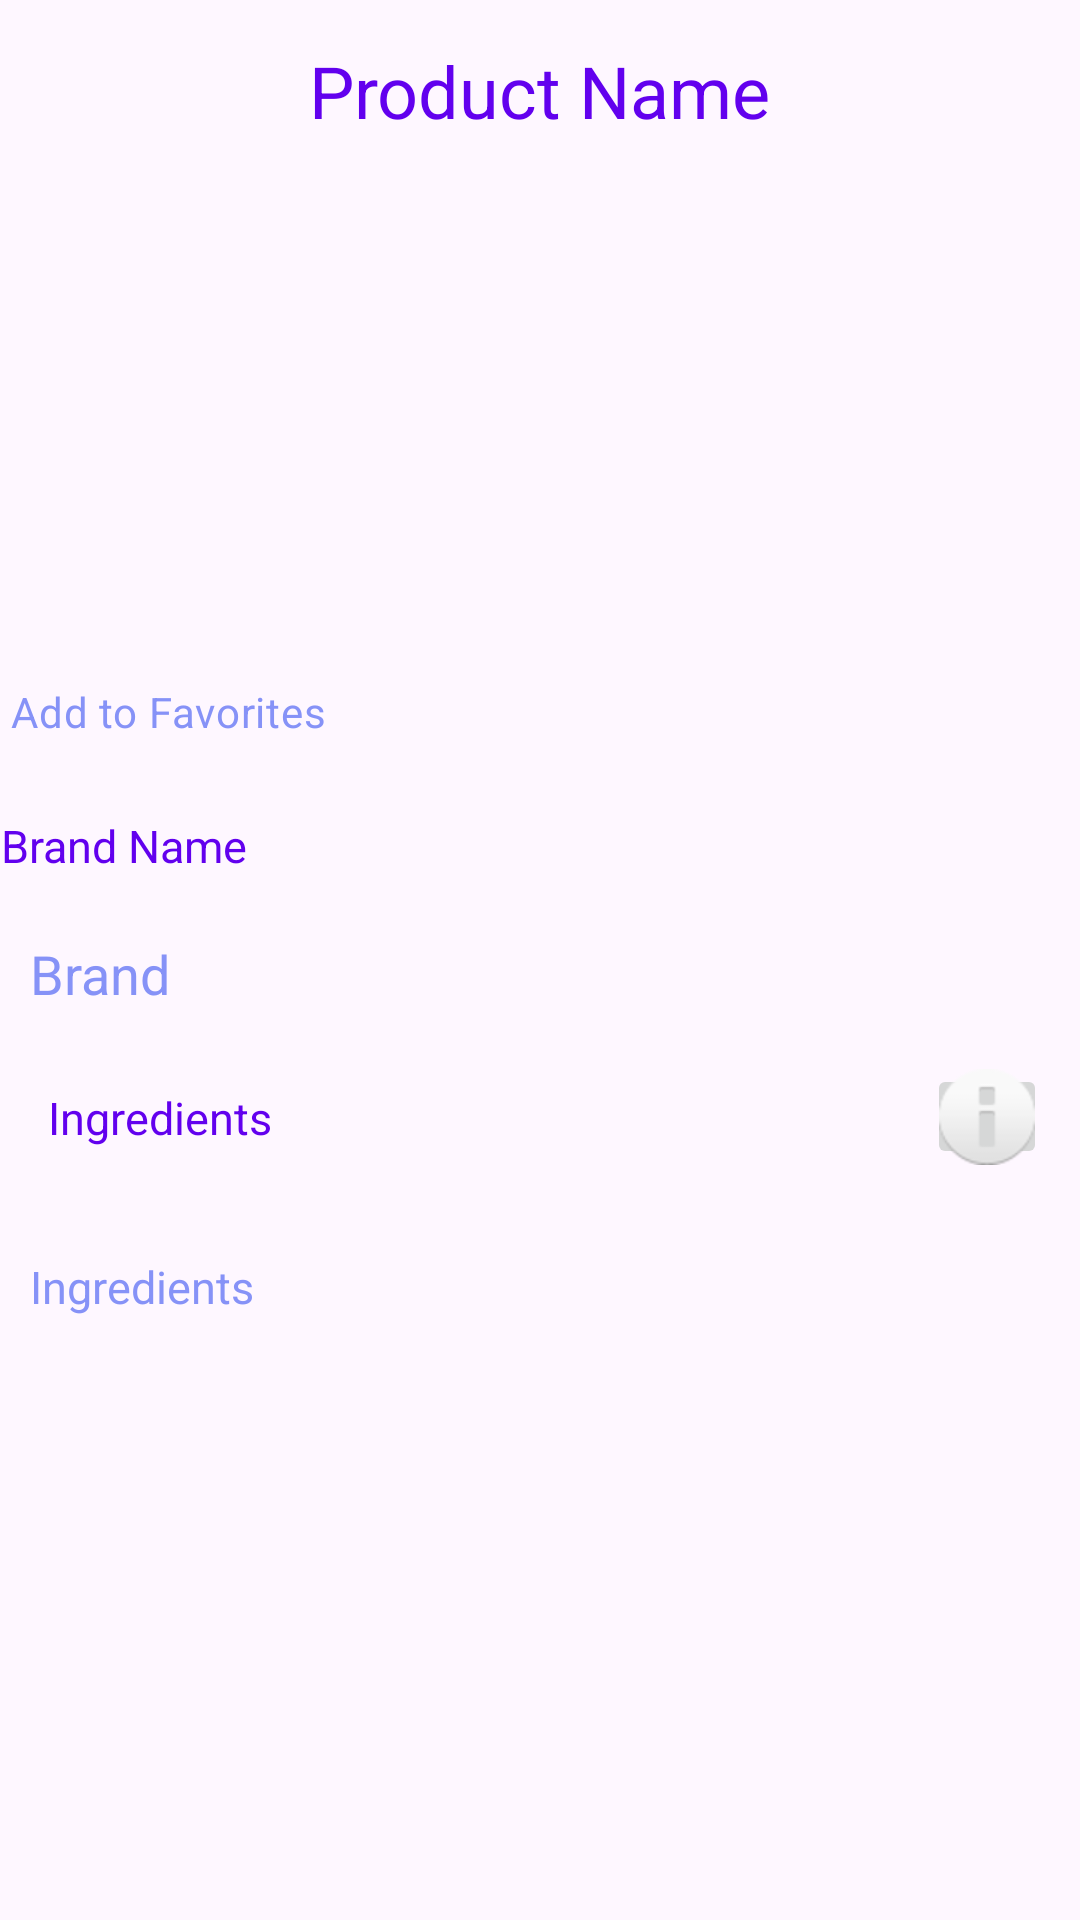

Icon click points for this 1080 x 1920 phone screenshot, format (x=x, y=y):
info: (x=987, y=1123)
